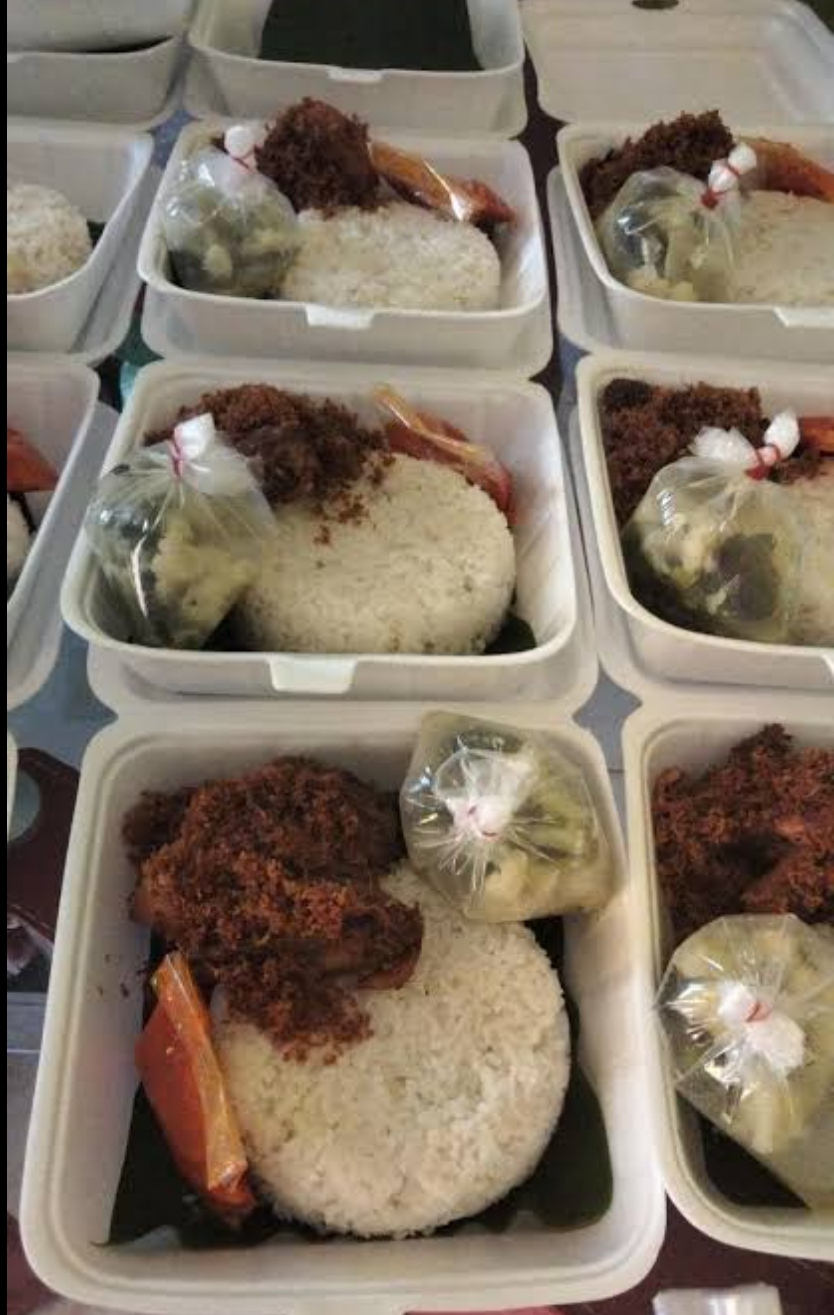daging: (139, 800, 357, 919), (266, 413, 353, 469)
makanan_berpati: (275, 1068, 522, 1183), (305, 544, 479, 613)
